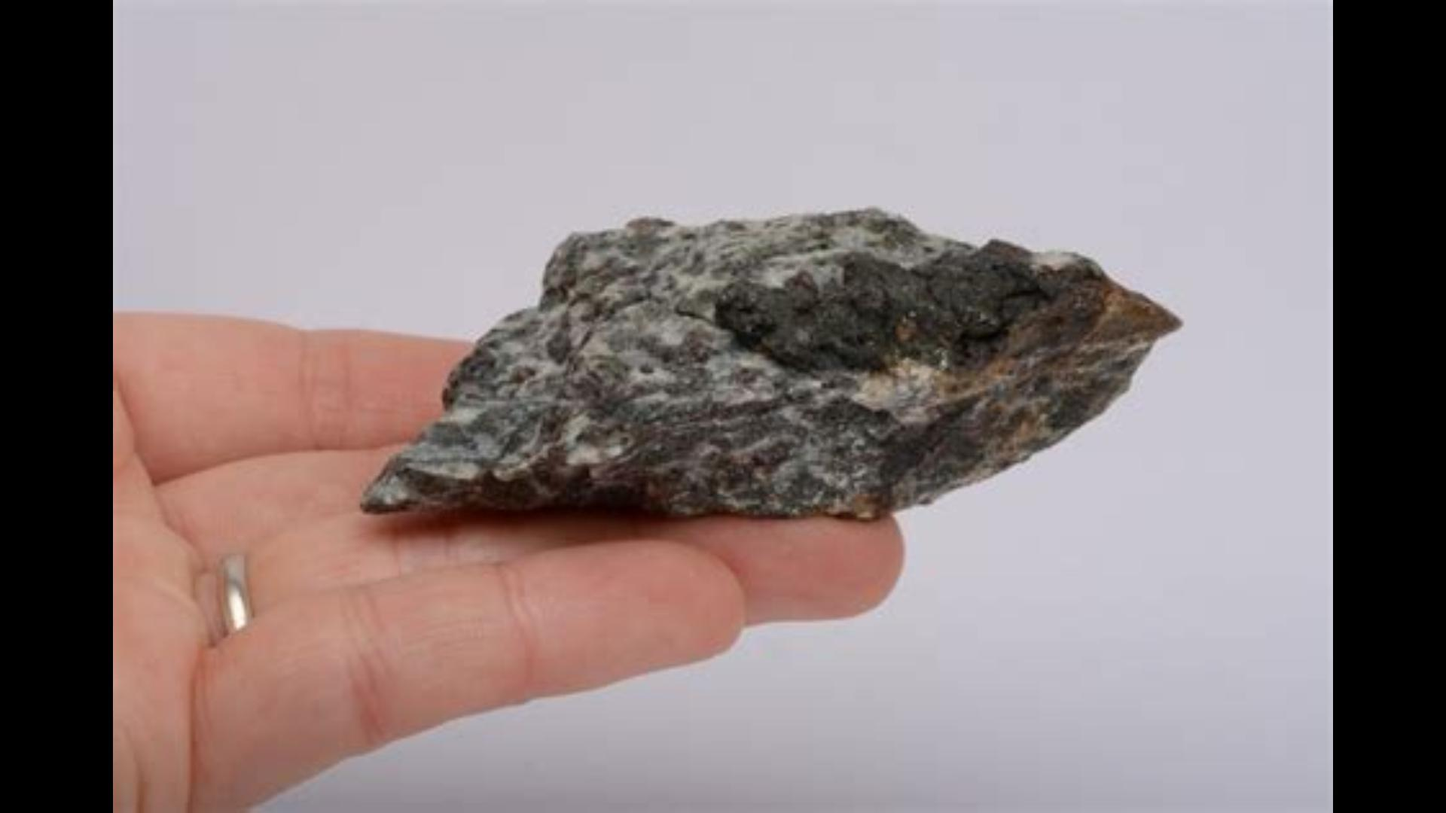rock: (363, 208, 1176, 515)
